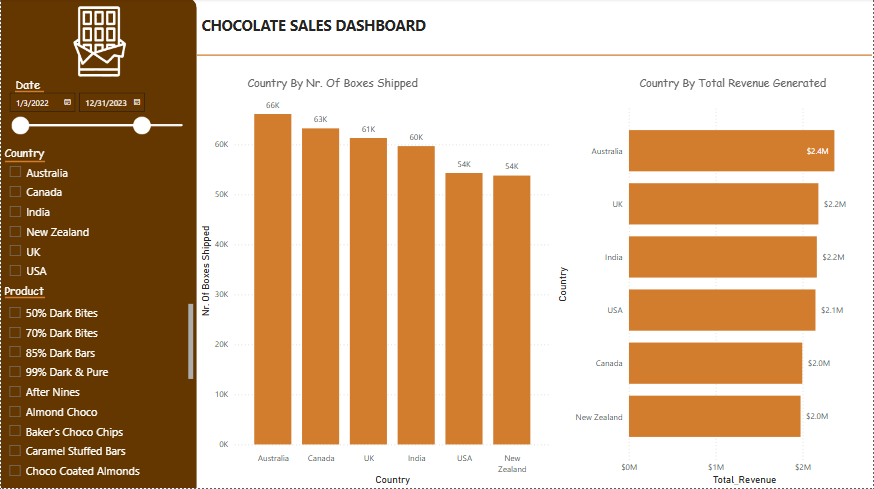

The dashboard page shown, as its layout file describes it:
{"tool":"powerbi","page":{"name":"Page 4","canvas":[1280,720],"ordinal":3},"visuals":[{"type":"shape","box":[0,0,287.7,719.8],"z":0},{"type":"shape","box":[287.7,0,992.3,167.9],"z":1000},{"type":"textbox","box":[289,20.6,747.4,49.5],"z":2000},{"type":"slicer","fields":{"Values":["calendar_table.Date"]},"box":[0,129.3,288,101.4],"z":3000},{"type":"slicer","fields":{"Values":["DataTable.Country"]},"box":[0,236.6,288,186.6],"z":4000},{"type":"slicer","fields":{"Values":["DataTable.Product"]},"box":[0,443.2,287.7,276.6],"z":5000},{"type":"textbox","box":[15.9,109.9,83.8,39.7],"z":6000},{"type":"textbox","box":[0,210.1,83.8,39.7],"z":7000},{"type":"textbox","box":[0,412.9,83.8,39.7],"z":8000},{"type":"shape","box":[5.9,210.1,58.8,60.2],"z":9000},{"type":"shape","box":[5.9,410,58.8,60.2],"z":10000},{"type":"shape","box":[20.6,107.3,42.6,60.2],"z":11000},{"type":"clusteredColumnChart","fields":{"Y":["Sum(DataTable.Boxes Shipped)"],"Category":["DataTable.Country"]},"box":[288,132.2,524.6,587.8],"z":12000},{"type":"clusteredBarChart","fields":{"Category":["DataTable.Country"],"Y":["Measure_Table.Total_Revenue"]},"box":[812.6,149.9,467.3,570.1],"z":13000},{"type":"textbox","box":[357.1,107.3,283.6,73.5],"z":14000},{"type":"textbox","box":[933.1,107.3,305.6,73.5],"z":15000},{"type":"image","box":[0,8.8,288,110.2],"z":15001}]}

Visuals, with their boxes in screenshot pixels (x1, y1, x2, y2), scaled from the page's 1280x720 canvas onto the 874x489 screenshot:
shape: {"left": 0, "top": 0, "right": 196, "bottom": 488}
shape: {"left": 196, "top": 0, "right": 873, "bottom": 114}
textbox: {"left": 197, "top": 14, "right": 708, "bottom": 48}
slicer - calendar_table.Date: {"left": 0, "top": 88, "right": 197, "bottom": 157}
slicer - DataTable.Country: {"left": 0, "top": 161, "right": 197, "bottom": 287}
slicer - DataTable.Product: {"left": 0, "top": 301, "right": 196, "bottom": 488}
textbox: {"left": 11, "top": 75, "right": 68, "bottom": 102}
textbox: {"left": 0, "top": 143, "right": 57, "bottom": 170}
textbox: {"left": 0, "top": 280, "right": 57, "bottom": 307}
shape: {"left": 4, "top": 143, "right": 44, "bottom": 184}
shape: {"left": 4, "top": 278, "right": 44, "bottom": 319}
shape: {"left": 14, "top": 73, "right": 43, "bottom": 114}
clusteredColumnChart - Sum(DataTable.Boxes Shipped) x DataTable.Country: {"left": 197, "top": 90, "right": 555, "bottom": 488}
clusteredBarChart - DataTable.Country x Measure_Table.Total_Revenue: {"left": 555, "top": 102, "right": 873, "bottom": 488}
textbox: {"left": 244, "top": 73, "right": 437, "bottom": 123}
textbox: {"left": 637, "top": 73, "right": 846, "bottom": 123}
image: {"left": 0, "top": 6, "right": 197, "bottom": 81}
